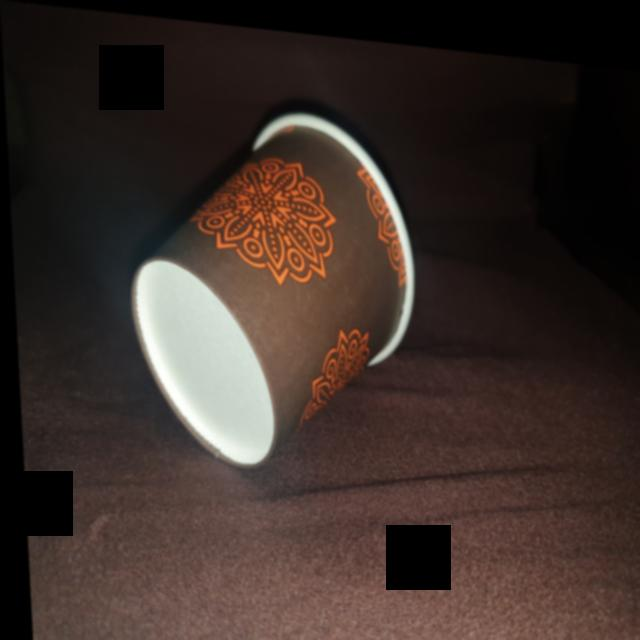cups: (112, 82, 431, 505)
